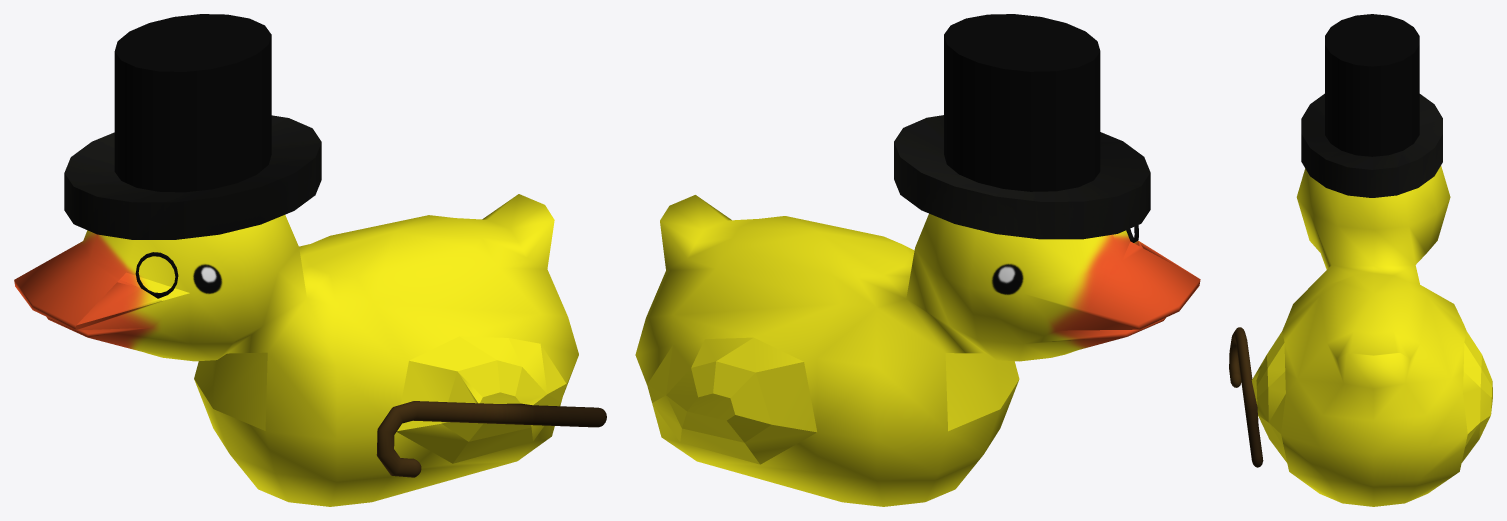
The model's file is Posh Duck.FBX.
3 renders of one model, left to right at view 1: azimuth 30°, elevation 25°; view 2: azimuth 150°, elevation 25°; view 3: azimuth 270°, elevation 25°, orthographic. The views are drawn at different scales.
Visible parts, largest first — view 1: Cylinder001; view 2: Cylinder001; view 3: Cylinder001.
Part boxes in pixels (left/top/right/bottom): Cylinder001: left=14, top=14, right=606, bottom=506; Cylinder001: left=635, top=14, right=1200, bottom=506; Cylinder001: left=1229, top=14, right=1492, bottom=506.
Bounding box in the file's own units: 187 × 157 × 108.
Materials: 1 (1 with a texture image).
